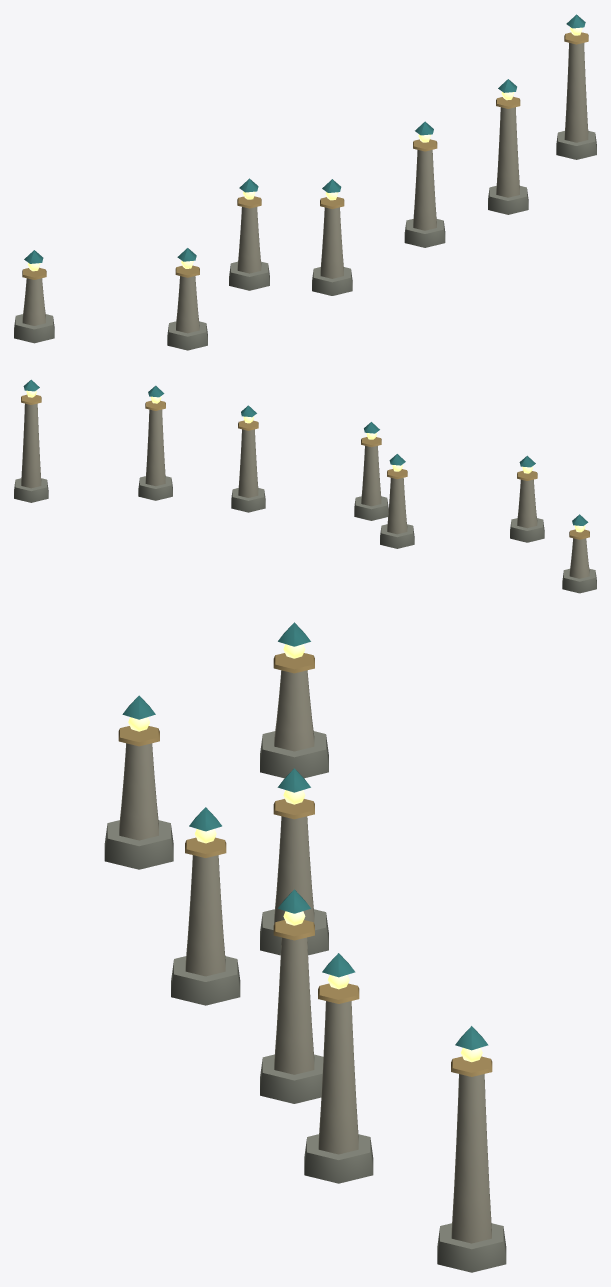
Rendered from landmark-r5-scale-lights-far.glb.
3 views of the same model, one above another, from view 1: azimuth 30°, elevation 25°; view 2: azimuth 150°, elevation 25°; view 3: azimuth 270°, elevation 25° (orthographic). The views are drawn at different scales.
Parts seen in each view (by area): view 1: Static_far, Lantern_far; view 2: Static_far, Lantern_far; view 3: Static_far, Lantern_far.
Boxes of the visible parts, x1,y1,x2,y2 form: Static_far: (14,14,596,350); Lantern_far: (27,27,582,271); Static_far: (14,379,596,593); Lantern_far: (26,390,585,532); Static_far: (104,622,506,1272); Lantern_far: (128,644,482,1062).
Bounding box in the file's own units: 112 × 22.9 × 36.24.
